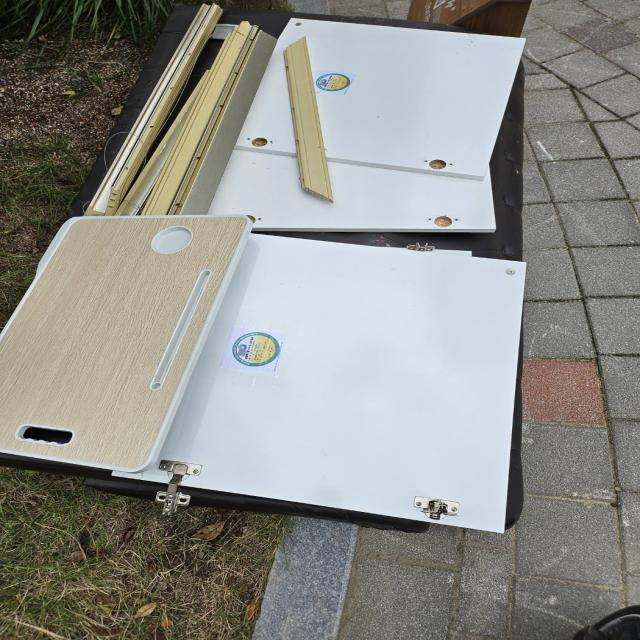Large Waste Items: (2, 213, 571, 546), (113, 0, 529, 234)
